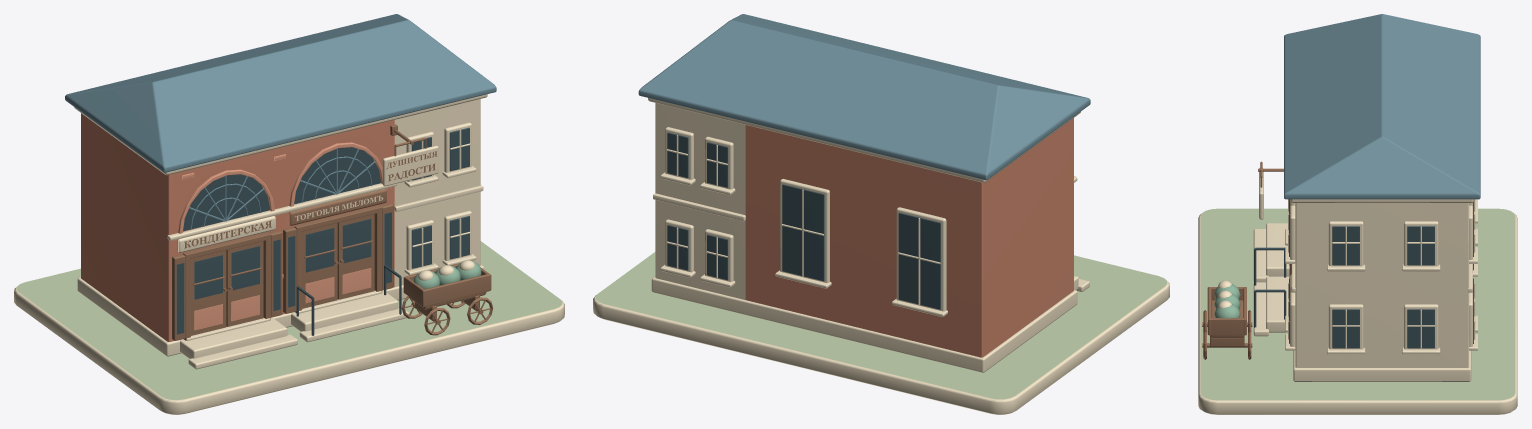
File: dushistye-radosti.glb
3 renders of one model, left to right at view 1: azimuth 30°, elevation 25°; view 2: azimuth 150°, elevation 25°; view 3: azimuth 270°, elevation 25°, orthographic. The views are drawn at different scales.
Parts seen in each view (by area): view 1: dushistye-radosti · soft low-poly; view 2: dushistye-radosti · soft low-poly; view 3: dushistye-radosti · soft low-poly.
Boxes of the visible parts, box(x1,y1,x2,y2) form: dushistye-radosti · soft low-poly: box(14, 14, 564, 414); dushistye-radosti · soft low-poly: box(593, 14, 1169, 414); dushistye-radosti · soft low-poly: box(1198, 14, 1517, 414).
Bounding box in the file's own units: 6.6 × 3.9 × 4.6.
